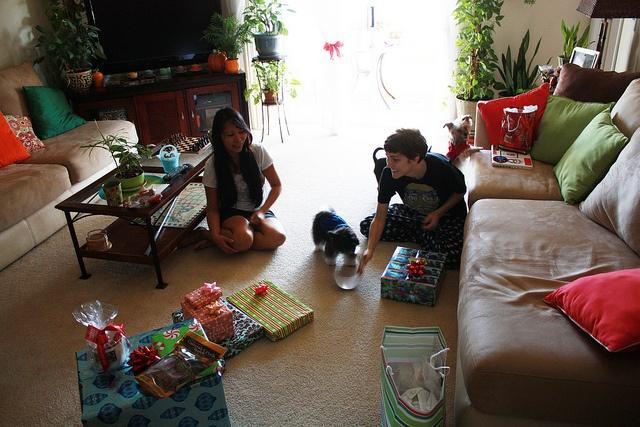Meja: (52, 129, 212, 288)
